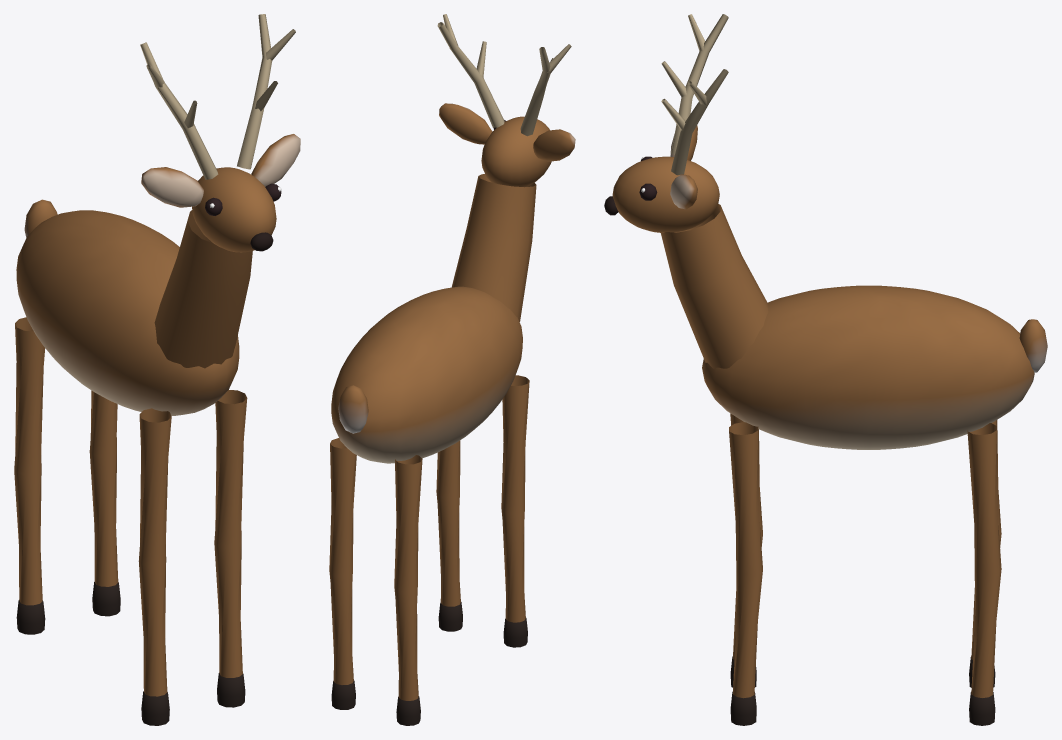
The model's file is critter_deer.glb.
3 views of the same model, side by side, from view 1: azimuth 30°, elevation 25°; view 2: azimuth 150°, elevation 25°; view 3: azimuth 270°, elevation 25° (orthographic). The views are drawn at different scales.
Parts seen in each view (by area): view 1: deer_body; view 2: deer_body; view 3: deer_body.
Boxes of the visible parts, left/top/right/bottom form: deer_body: left=14, top=14, right=300, bottom=725; deer_body: left=329, top=14, right=575, bottom=725; deer_body: left=604, top=14, right=1047, bottom=725.
Size of the model in its own units: 0.2926 by 1.22 by 0.744.
